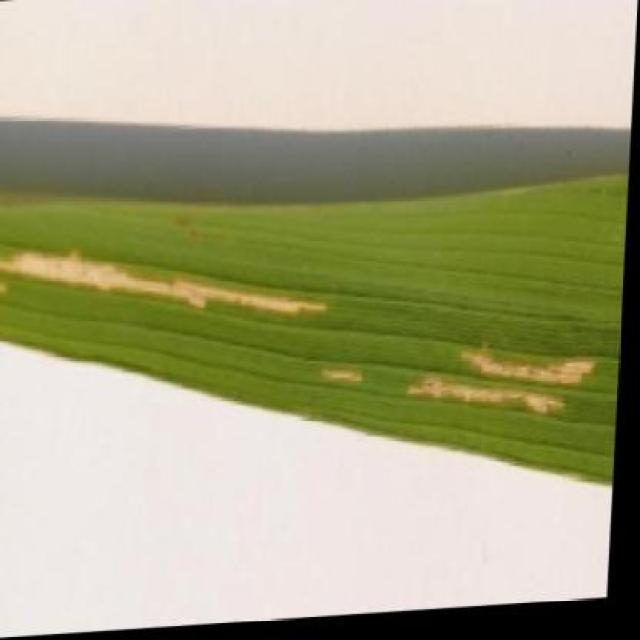Brown_Spot: (0, 153, 632, 537)
